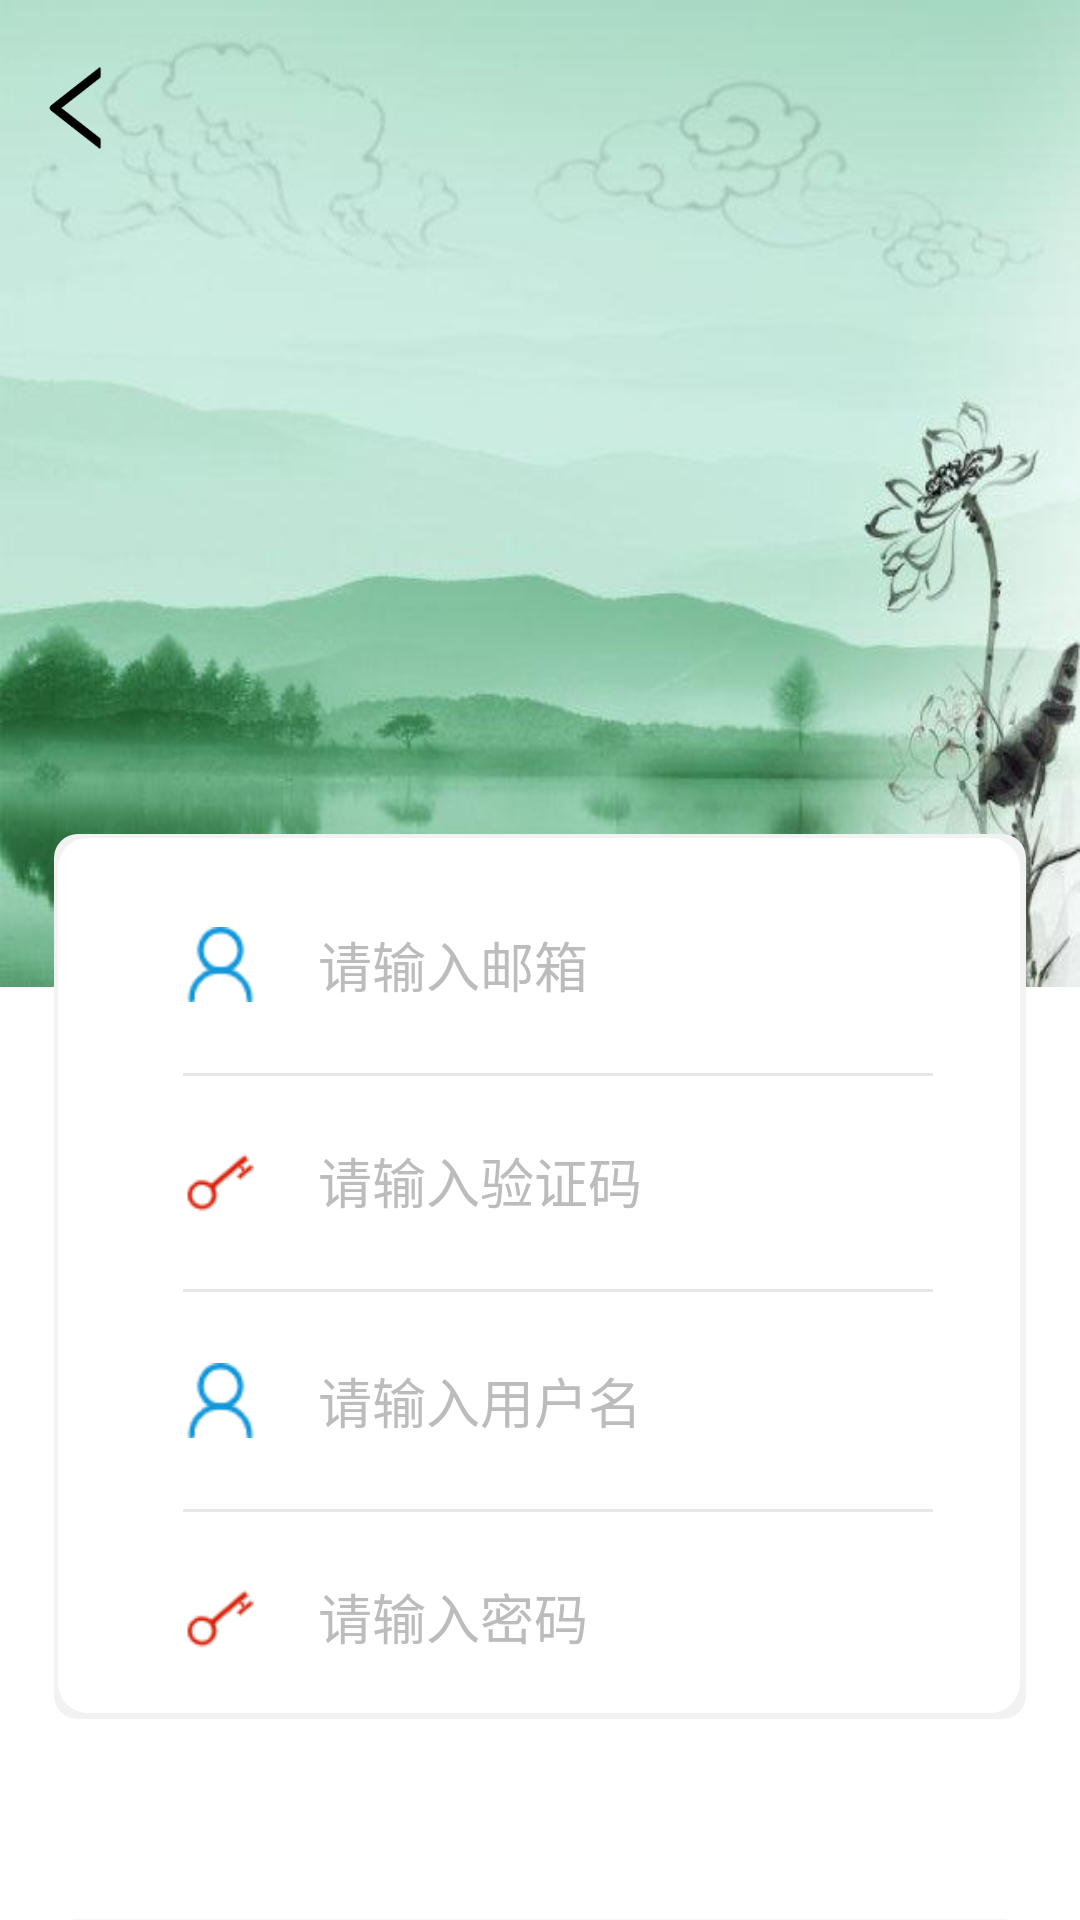

Named icons in this screenshot (1080×1920) and their bounding boxes, (x1, y1, x2, y2):
account: (187, 927, 254, 1002), (187, 1363, 254, 1438)
返回: (49, 67, 118, 149)
